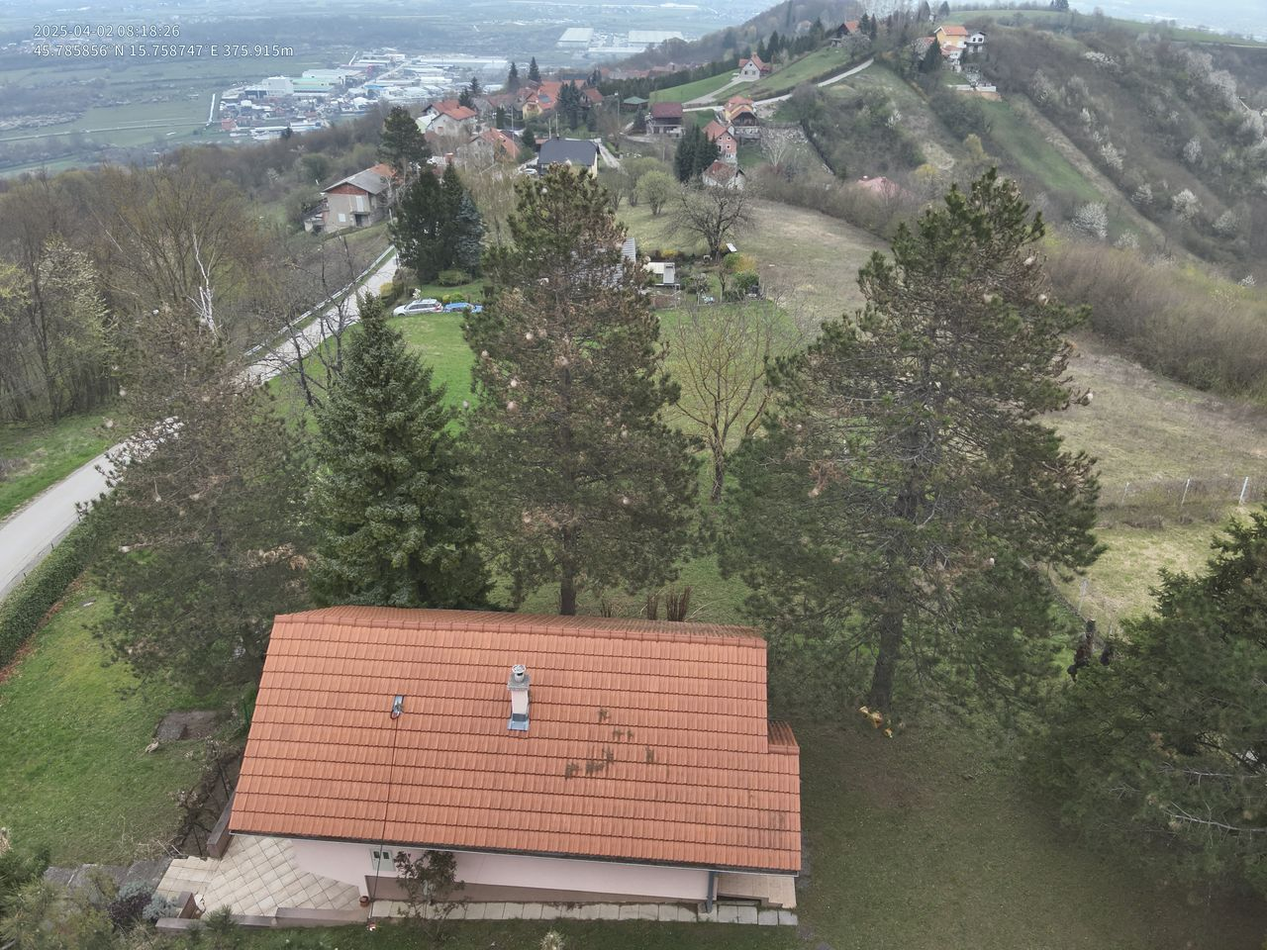thaumatopoea pityocampa jajno gnijezdo: (554, 352, 571, 369), (642, 251, 658, 269), (99, 417, 118, 432), (521, 511, 536, 527), (1023, 251, 1036, 269), (806, 485, 822, 499), (984, 554, 1001, 567), (618, 493, 631, 509), (189, 490, 201, 507), (115, 389, 132, 401), (505, 398, 517, 415), (151, 493, 165, 507), (118, 543, 133, 556), (618, 426, 631, 440), (507, 378, 521, 391), (1083, 389, 1096, 403), (539, 185, 552, 198), (981, 293, 994, 306), (1036, 290, 1048, 304), (523, 330, 535, 343), (800, 533, 810, 548), (561, 159, 575, 169), (613, 237, 623, 251), (480, 348, 490, 362), (201, 393, 212, 405), (151, 306, 162, 316)
